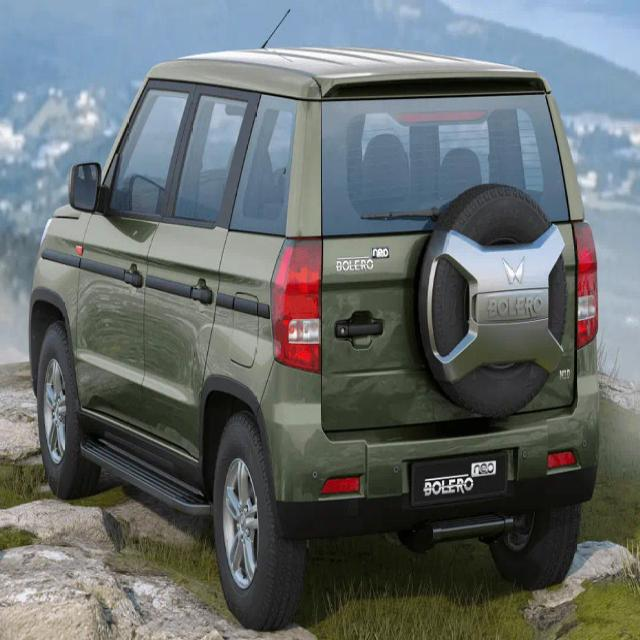light_vehicle: (26, 46, 604, 612)
